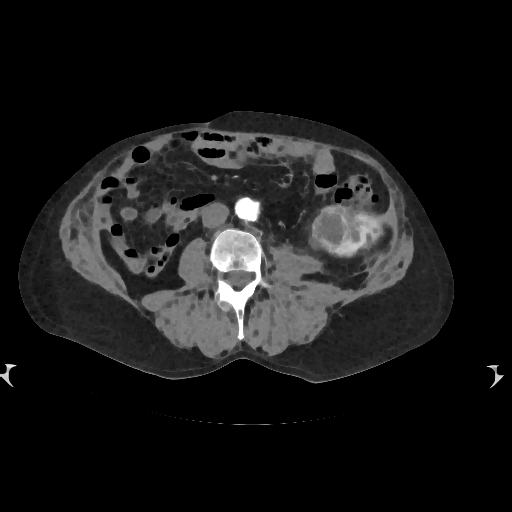Lesion: (310, 212, 348, 248)
